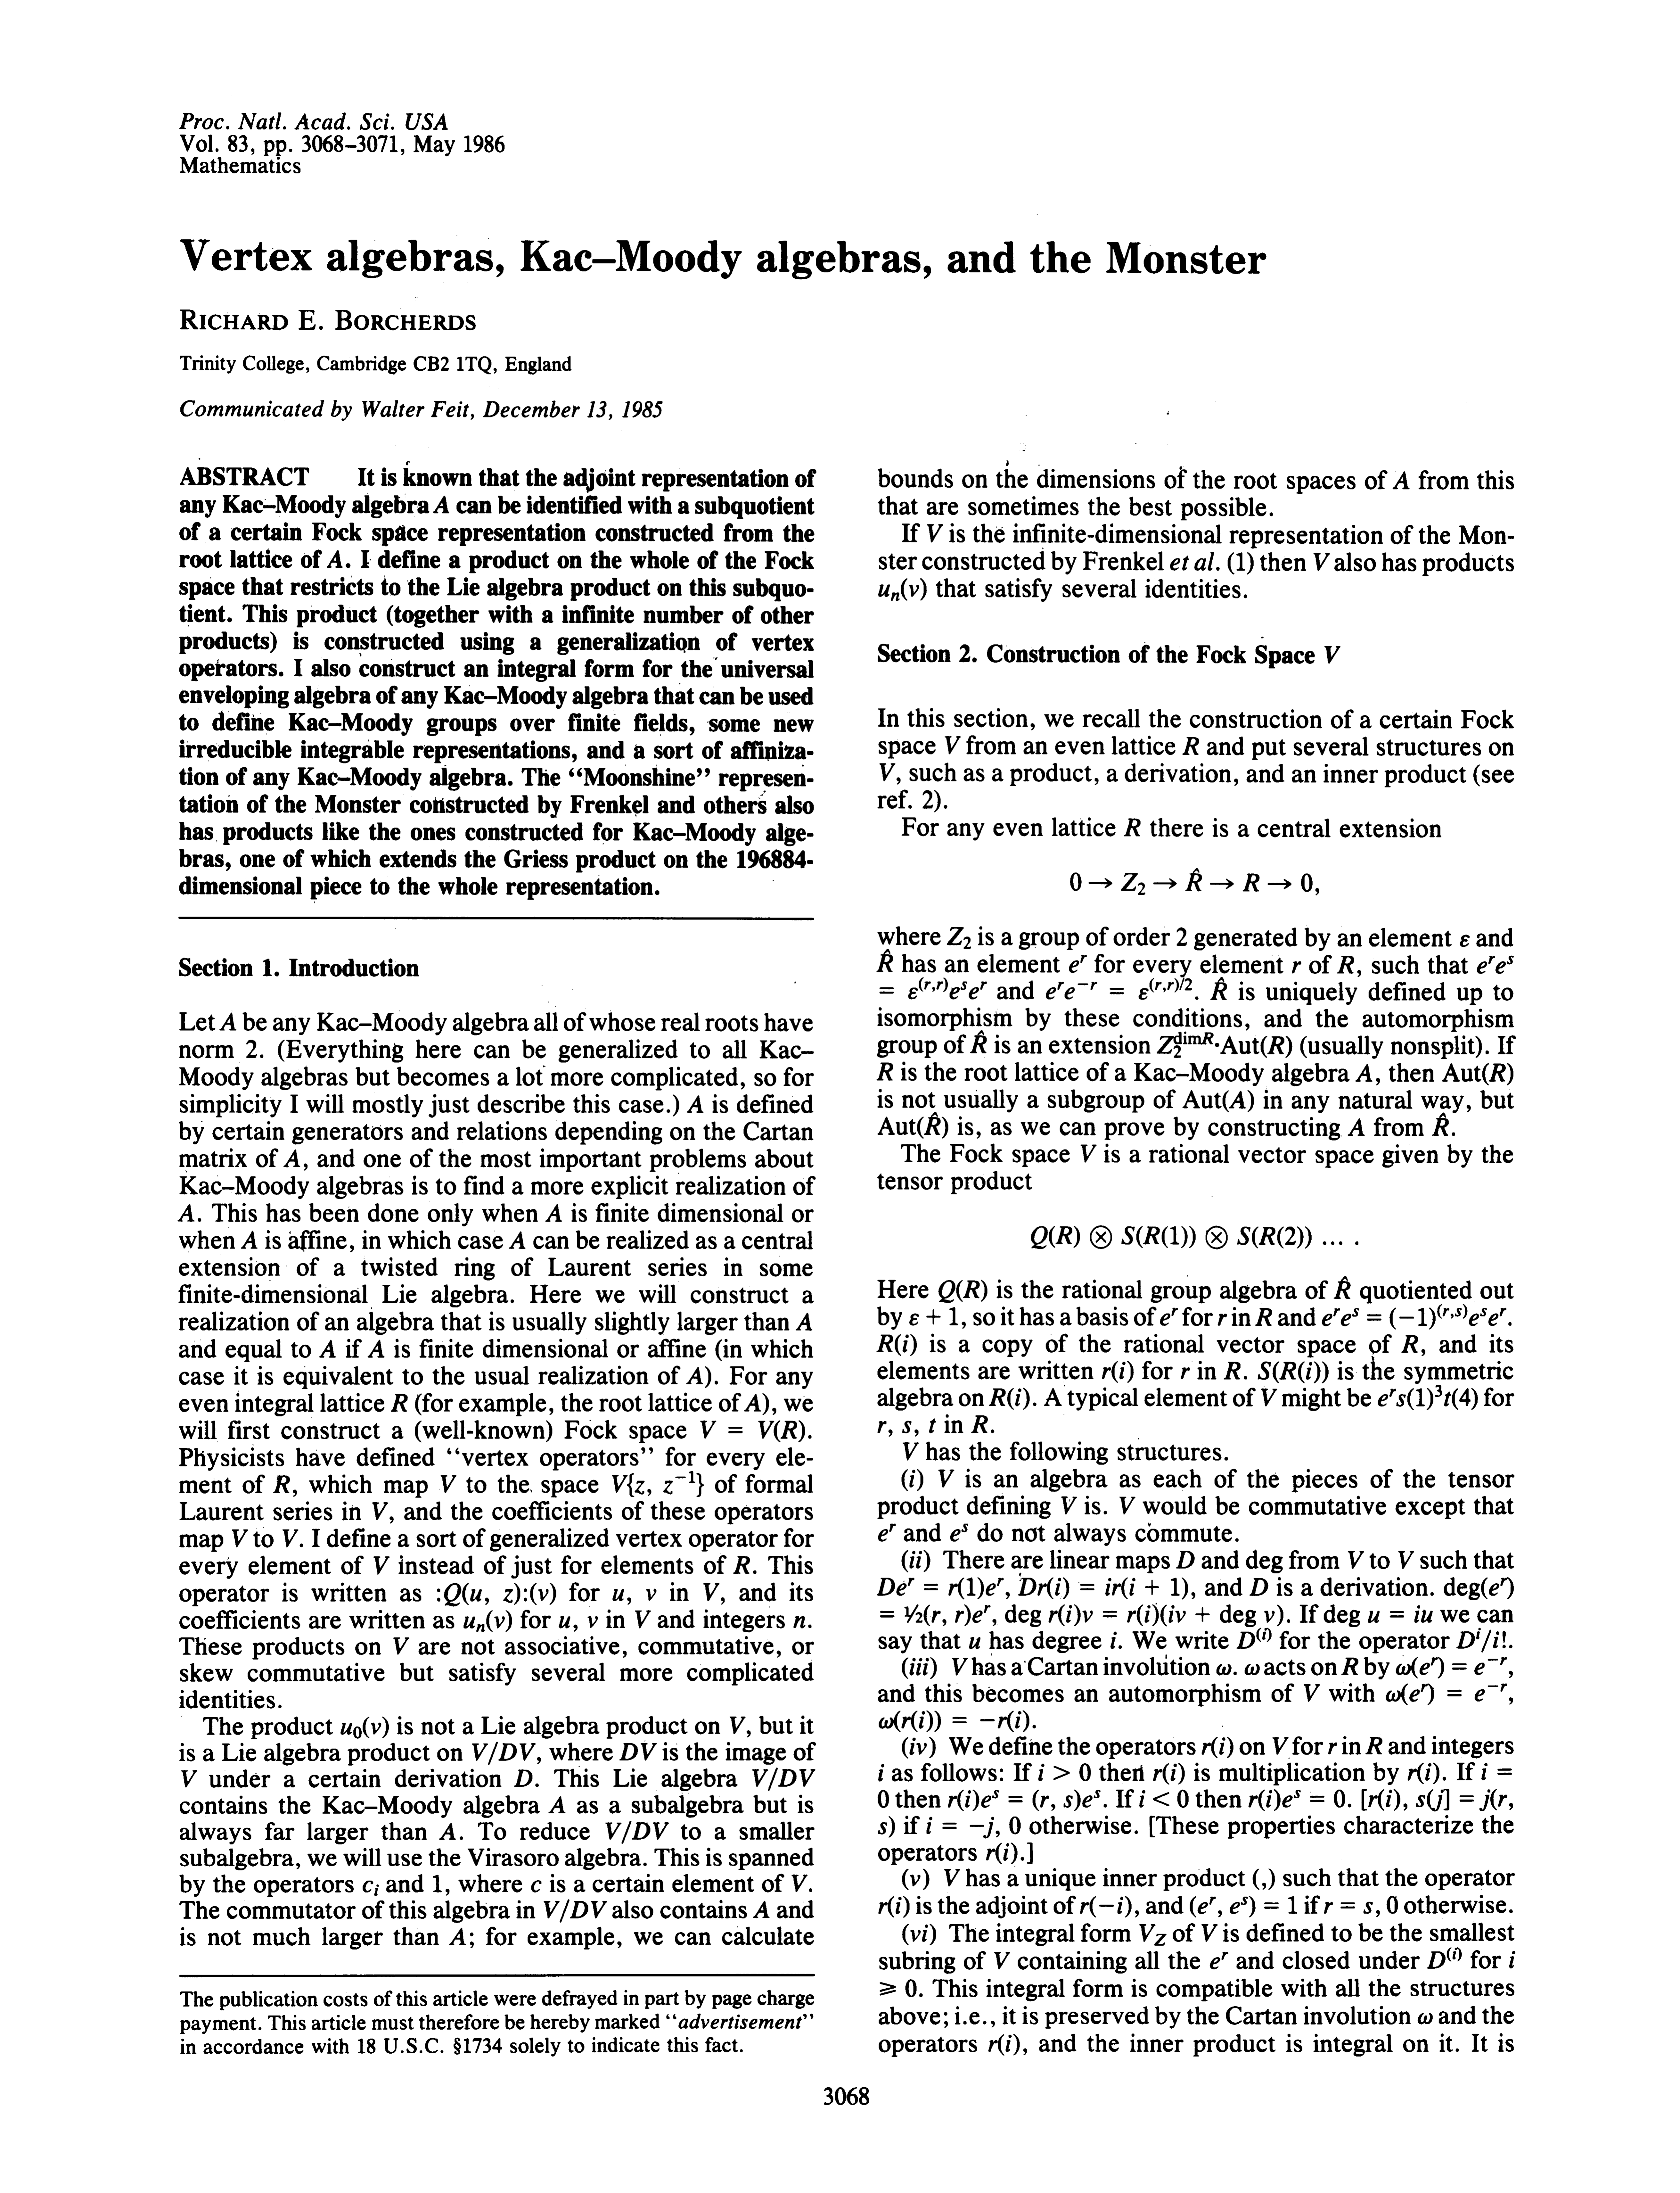maths: (1069, 868, 1318, 894), (1031, 1226, 1311, 1249), (1006, 1604, 1283, 1627), (1322, 1304, 1511, 1329), (1018, 1577, 1188, 1600), (1158, 1032, 1292, 1057), (948, 1789, 1099, 1810), (877, 1577, 1009, 1598), (881, 1604, 995, 1627), (1324, 1604, 1433, 1627), (1396, 1657, 1512, 1678), (1378, 1385, 1477, 1410), (1189, 1897, 1297, 1918), (612, 1471, 704, 1496), (462, 1583, 556, 1605), (1249, 1789, 1345, 1810), (877, 1111, 948, 1138), (879, 1711, 967, 1733), (909, 977, 986, 999), (1442, 1062, 1512, 1085), (1444, 1577, 1514, 1600), (544, 1898, 607, 1923), (1182, 1090, 1253, 1111), (1258, 1362, 1329, 1383), (471, 1741, 535, 1764), (752, 1768, 815, 1791), (605, 1821, 669, 1844), (1138, 977, 1198, 1000), (1456, 1628, 1512, 1651), (1433, 1096, 1463, 1136), (939, 1279, 986, 1304), (1459, 1789, 1512, 1810), (1080, 1897, 1131, 1918), (1385, 1683, 1435, 1704), (979, 1711, 1029, 1733), (464, 1611, 512, 1632), (341, 1717, 388, 1738), (879, 579, 926, 600), (759, 1420, 805, 1441), (1038, 1763, 1091, 1780), (1140, 1789, 1188, 1808), (1246, 1549, 1283, 1574), (1046, 981, 1098, 999), (909, 1307, 958, 1325), (988, 1388, 1029, 1410), (986, 1842, 1024, 1865), (877, 1334, 916, 1355), (1324, 1902, 1380, 1916), (1475, 1683, 1512, 1704), (718, 1394, 761, 1411), (701, 1420, 743, 1438), (1428, 1948, 1461, 1969), (1103, 1360, 1133, 1383), (1202, 1736, 1234, 1757), (1152, 1763, 1184, 1784), (1408, 1763, 1440, 1784), (1368, 1789, 1399, 1810), (988, 2034, 1020, 2055), (619, 1743, 656, 1761), (1477, 956, 1514, 974), (1237, 1628, 1271, 1648), (879, 1897, 909, 1918), (881, 1980, 916, 1997), (971, 1817, 999, 1838), (438, 1583, 461, 1607), (1481, 1763, 1512, 1780), (1140, 1925, 1166, 1946), (948, 926, 971, 949), (926, 1817, 956, 1833), (971, 1415, 994, 1433), (877, 949, 893, 972), (1211, 977, 1226, 1000), (971, 1030, 986, 1053), (1334, 1276, 1350, 1299), (792, 1874, 812, 1891), (1175, 1551, 1195, 1568), (1249, 1579, 1269, 1597), (219, 1013, 236, 1030), (240, 1231, 258, 1249), (367, 1339, 385, 1357), (390, 1394, 408, 1411), (732, 1556, 750, 1574), (514, 1770, 531, 1787), (1392, 471, 1410, 489), (1069, 954, 1087, 972), (1355, 1064, 1373, 1082), (1159, 1307, 1177, 1325), (1255, 1307, 1272, 1325), (1401, 1336, 1419, 1353), (951, 1524, 969, 1542), (1211, 1951, 1228, 1969), (1313, 552, 1329, 572), (432, 496, 448, 513), (326, 550, 342, 568), (686, 1096, 702, 1113), (284, 1150, 300, 1168), (178, 1203, 194, 1221), (508, 1231, 524, 1249), (796, 1313, 812, 1330), (319, 1339, 335, 1357), (274, 1475, 289, 1493), (372, 1501, 388, 1519), (231, 1530, 247, 1547), (282, 1530, 298, 1547), (374, 1556, 390, 1574), (559, 1616, 577, 1632), (635, 1611, 651, 1628), (394, 1637, 409, 1655), (729, 1717, 745, 1734), (182, 1770, 198, 1787), (549, 1796, 565, 1814), (439, 1823, 455, 1840), (362, 1881, 379, 1897), (754, 1900, 769, 1918), (448, 1928, 466, 1944), (926, 524, 942, 542), (944, 736, 960, 753), (1182, 737, 1198, 755), (879, 764, 895, 782), (1124, 819, 1140, 836), (1338, 956, 1354, 974), (877, 1062, 893, 1080), (1348, 1119, 1364, 1136), (1080, 1145, 1096, 1163), (904, 1443, 919, 1461), (939, 1470, 955, 1487), (1061, 1496, 1076, 1514), (1119, 1496, 1135, 1514), (879, 1524, 895, 1542), (1348, 1551, 1364, 1568), (1398, 1551, 1414, 1568), (951, 1658, 967, 1676), (1341, 1658, 1359, 1674), (944, 1868, 960, 1886), (994, 1951, 1009, 1969), (1216, 1664, 1237, 1676), (545, 1205, 561, 1221), (686, 1367, 702, 1383), (877, 1420, 893, 1436), (902, 1420, 918, 1436), (1304, 1685, 1320, 1701), (1272, 1738, 1288, 1754), (1366, 1738, 1382, 1754), (1202, 1925, 1218, 1941), (441, 1475, 455, 1493), (612, 1590, 630, 1604), (704, 1583, 718, 1600), (1325, 646, 1339, 663), (1262, 1388, 1276, 1406), (794, 1616, 812, 1628), (877, 1791, 889, 1808), (955, 2006, 967, 2024), (969, 2011, 986, 2024), (1009, 1815, 1020, 1835), (1387, 1897, 1398, 1914), (392, 1426, 404, 1440), (1244, 1664, 1260, 1674), (1417, 2013, 1433, 2024), (247, 1039, 256, 1057), (588, 1616, 598, 1628), (1509, 1951, 1516, 1969), (646, 1590, 656, 1600), (531, 1881, 542, 1891), (1459, 935, 1470, 946), (969, 1637, 979, 1648), (1110, 1632, 1117, 1648), (1181, 1367, 1189, 1380), (879, 986, 893, 993), (1292, 962, 1301, 972), (1218, 1314, 1226, 1325), (1329, 1743, 1338, 1754), (879, 1764, 884, 1782), (1110, 988, 1124, 993), (930, 1418, 935, 1433), (1447, 1690, 1461, 1695)
